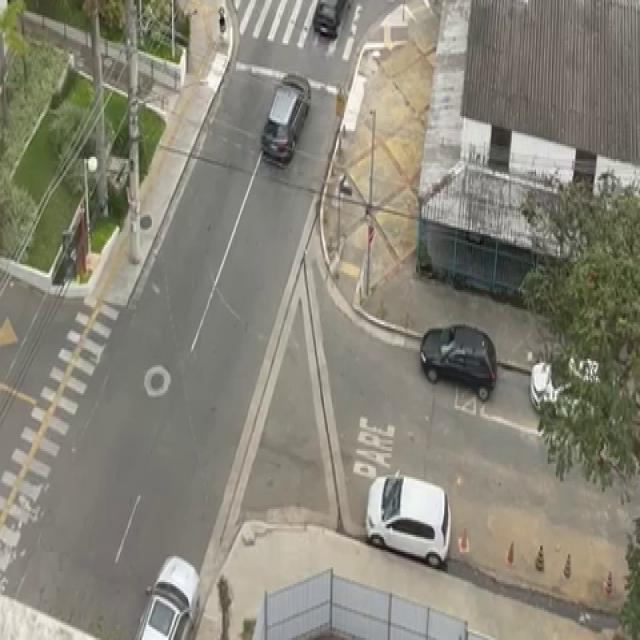car: (364, 471, 454, 561), (528, 355, 628, 426), (132, 546, 204, 640), (416, 322, 499, 401), (258, 71, 315, 167), (308, 0, 351, 41)
